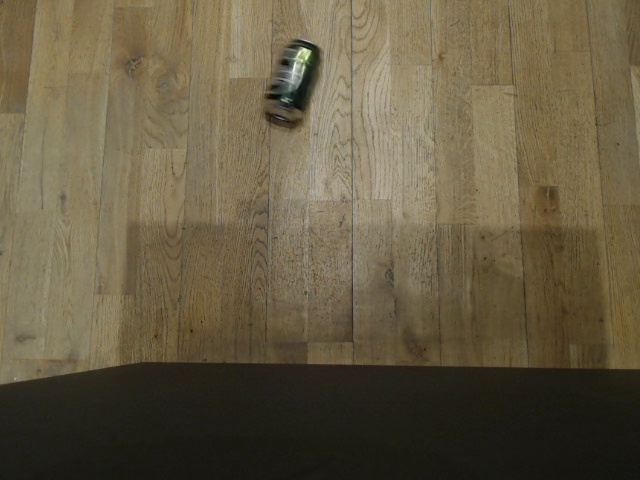beer: (259, 36, 321, 126)
